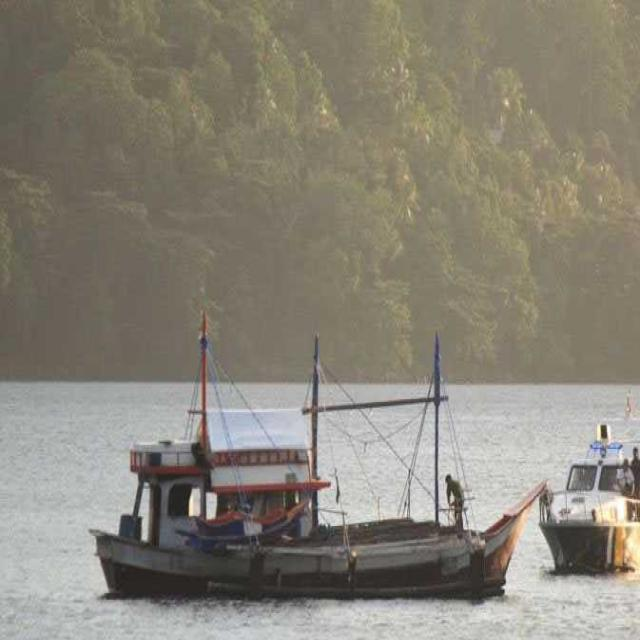Fishing Boat: (45, 217, 553, 617)
